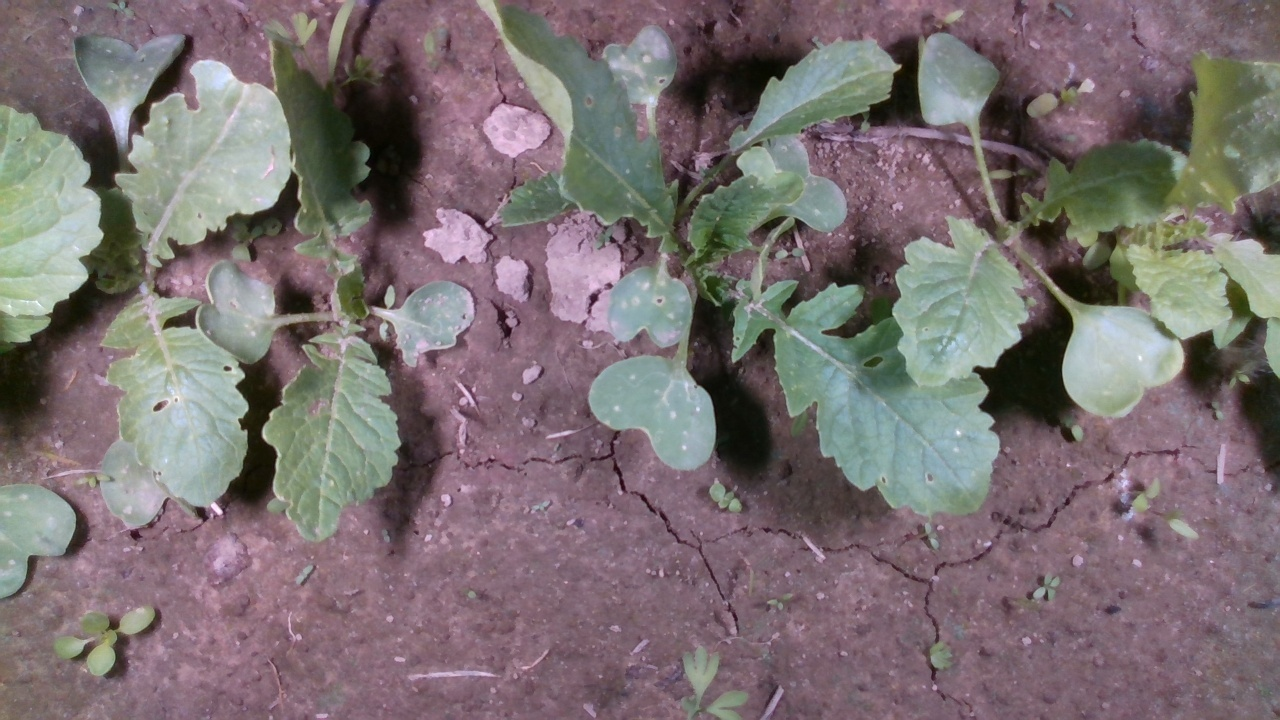weed: (705, 481, 744, 515)
